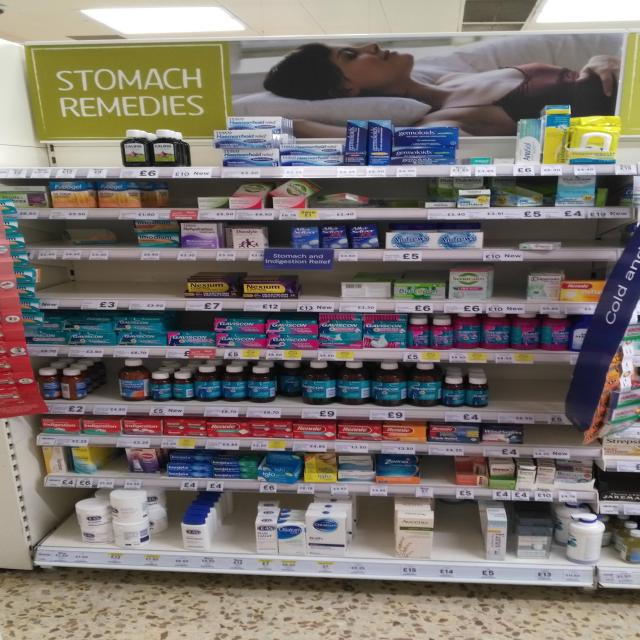void: (356, 500, 392, 575), (441, 505, 477, 580), (38, 492, 73, 564), (495, 366, 535, 426), (536, 363, 572, 425), (73, 264, 118, 311), (220, 508, 250, 570), (120, 264, 157, 310), (303, 264, 336, 315), (493, 262, 525, 314), (34, 266, 72, 308), (376, 176, 413, 218), (91, 362, 120, 415), (20, 218, 56, 260), (159, 264, 191, 310), (5, 127, 32, 177), (90, 220, 122, 262), (58, 124, 82, 178), (59, 220, 88, 264), (85, 123, 108, 178), (34, 124, 56, 180), (564, 219, 594, 260), (419, 455, 448, 496), (524, 426, 560, 458), (562, 427, 596, 458), (487, 219, 511, 260), (101, 446, 124, 488), (593, 222, 618, 260)
